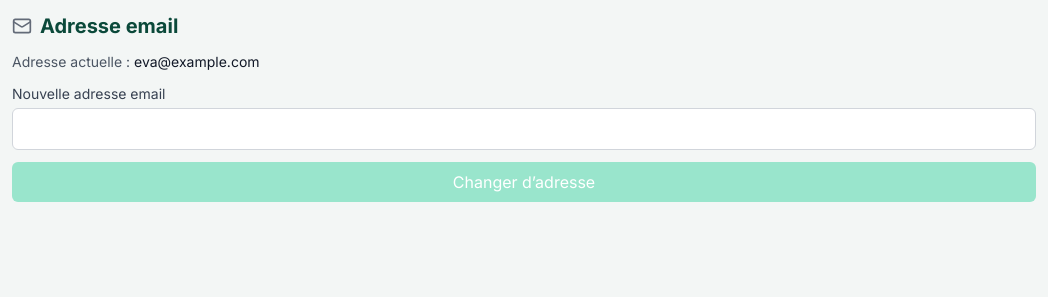
Test: EmailChangeForm › demande le changement et explique la confirmation par lien
This screenshot has width=1048, height=297.
In the field labelled "Nouvelle adresse email": [524, 129] box [12,108,1036,150], type "Eva.Nouvelle@Example.com"
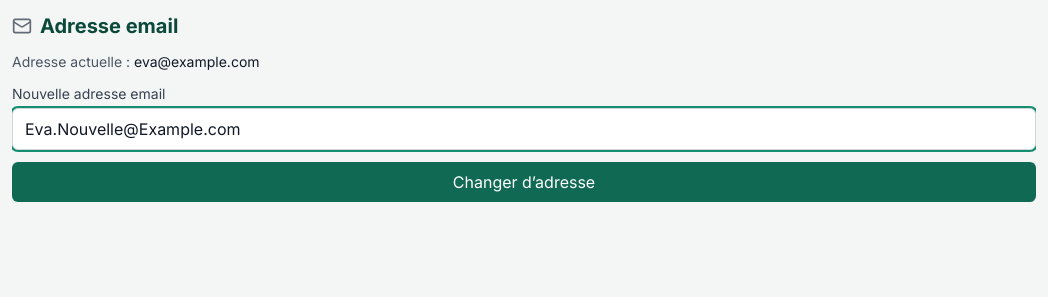
Click the button "Changer d’adresse": [524, 182] box [12,162,1036,202]
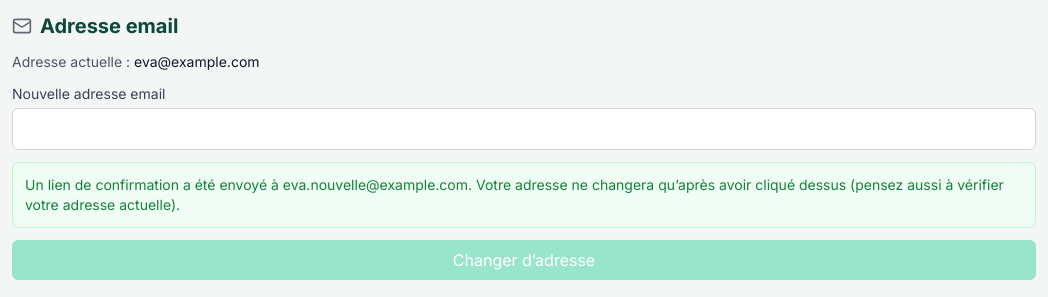
Now the message shows "Un lien de confirmation a été envoyé à eva.nouvelle@example.com", box [25,176,1004,213]
Now the field labelled "Nouvelle adresse email" is empty, box [12,108,1036,150]
